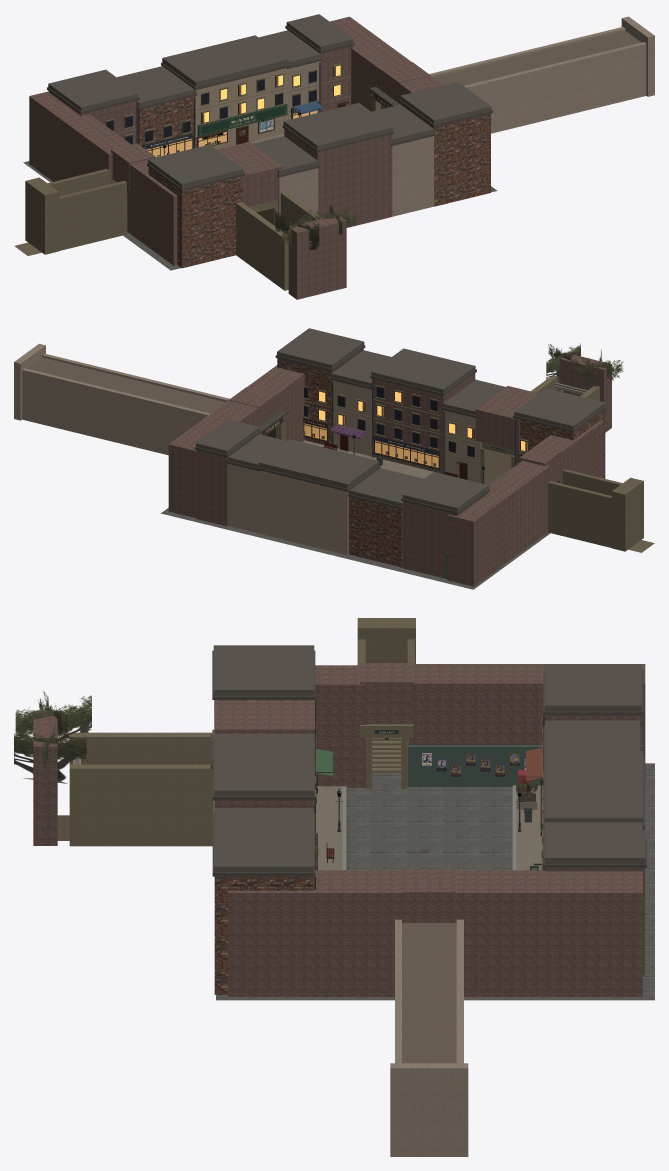
The model's file is starting-area.glb.
3 renders of one model, top to bottom at view 1: azimuth 30°, elevation 25°; view 2: azimuth 150°, elevation 25°; view 3: azimuth 270°, elevation 25°, orthographic. The views are drawn at different scales.
Parts seen in each view (by area): view 1: bake:red_brick_03:brick, bake:plain:parapet, bake:painted_plaster_wall:render, bake:brick_wall_001:brick_alt, bake:concrete_wall_007:concrete, bake:concrete_wall_007:stone, bake:plain:canopy, bake:painted_plaster_wall:shop_skin, bake:plain:cornice, bake:plain:reveal, bake:plain:pane_dark, bake:picture:tree-shrine-a (+7 smaller); view 2: bake:red_brick_03:brick, bake:plain:parapet, bake:painted_plaster_wall:render, bake:concrete_wall_007:concrete, bake:brick_wall_001:brick_alt, bake:painted_plaster_wall:shop_skin, bake:concrete_wall_007:stone, bake:plain:canopy, bake:plain:cornice, bake:asphalt_02:road, bake:plain:reveal, bake:plain:pane_dark (+8 smaller); view 3: bake:red_brick_03:brick, bake:plain:parapet, bake:asphalt_02:road, bake:concrete_wall_007:stone, bake:painted_plaster_wall:render, bake:plain:canopy, bake:plain:hoarding, bake:plain:cornice, bake:concrete_pavement:pavement, bake:brick_wall_001:brick_alt, bake:concrete_wall_007:concrete, bake:picture:tree-shrine-b (+3 smaller).
Boxes of the visible parts, x1,y1,x2,y2 form: bake:red_brick_03:brick: (29, 16, 442, 299); bake:plain:parapet: (48, 14, 491, 187); bake:painted_plaster_wall:render: (278, 16, 654, 229); bake:brick_wall_001:brick_alt: (138, 96, 490, 268); bake:concrete_wall_007:concrete: (14, 169, 126, 255); bake:concrete_wall_007:stone: (105, 63, 386, 290); bake:plain:canopy: (433, 31, 641, 85); bake:painted_plaster_wall:shop_skin: (195, 68, 287, 149); bake:plain:cornice: (47, 25, 492, 190); bake:plain:reveal: (106, 64, 385, 147); bake:plain:pane_dark: (107, 71, 316, 144); bake:picture:tree-shrine-a: (275, 210, 319, 250); bake:red_brick_03:brick: (168, 352, 611, 586); bake:plain:parapet: (196, 328, 605, 511); bake:painted_plaster_wall:render: (14, 343, 481, 533); bake:concrete_wall_007:concrete: (548, 469, 654, 552); bake:brick_wall_001:brick_alt: (277, 349, 605, 567); bake:painted_plaster_wall:shop_skin: (259, 470, 348, 554); bake:concrete_wall_007:stone: (260, 375, 599, 483); bake:plain:canopy: (27, 357, 225, 413); bake:plain:cornice: (194, 345, 606, 514); bake:asphalt_02:road: (161, 508, 550, 589); bake:plain:reveal: (265, 386, 528, 479); bake:plain:pane_dark: (304, 387, 473, 456); bake:red_brick_03:brick: (33, 663, 645, 996); bake:plain:parapet: (212, 645, 645, 872); bake:asphalt_02:road: (216, 763, 654, 1000); bake:concrete_wall_007:stone: (69, 716, 545, 870); bake:painted_plaster_wall:render: (213, 800, 468, 1156); bake:plain:canopy: (402, 923, 456, 1063); bake:plain:hoarding: (407, 738, 642, 786); bake:plain:cornice: (210, 650, 646, 876); bake:concrete_pavement:pavement: (316, 785, 541, 870); bake:brick_wall_001:brick_alt: (214, 700, 313, 994); bake:concrete_wall_007:concrete: (357, 618, 415, 767); bake:picture:tree-shrine-b: (14, 721, 86, 783).
Bounding box in the file's own units: 89.4 × 12.11 × 52.58.
Materials: 89 (48 with a texture image).
